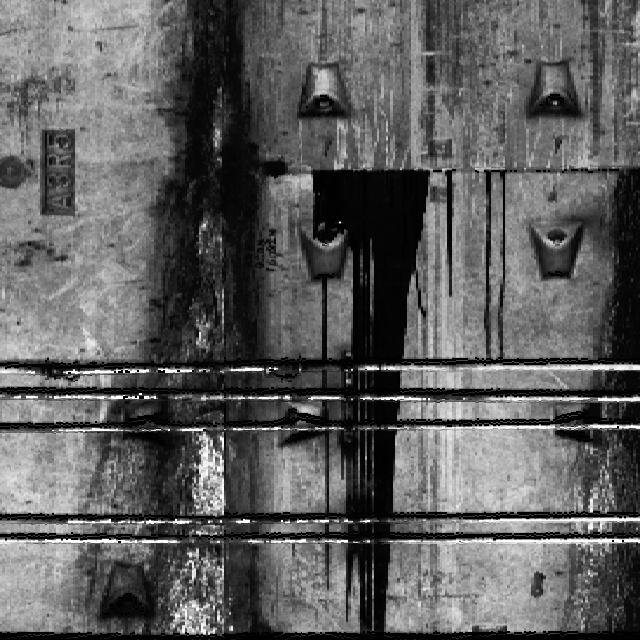leakage: (84, 0, 273, 631), (290, 166, 431, 636), (573, 165, 639, 639), (475, 168, 508, 359), (439, 166, 460, 298)
